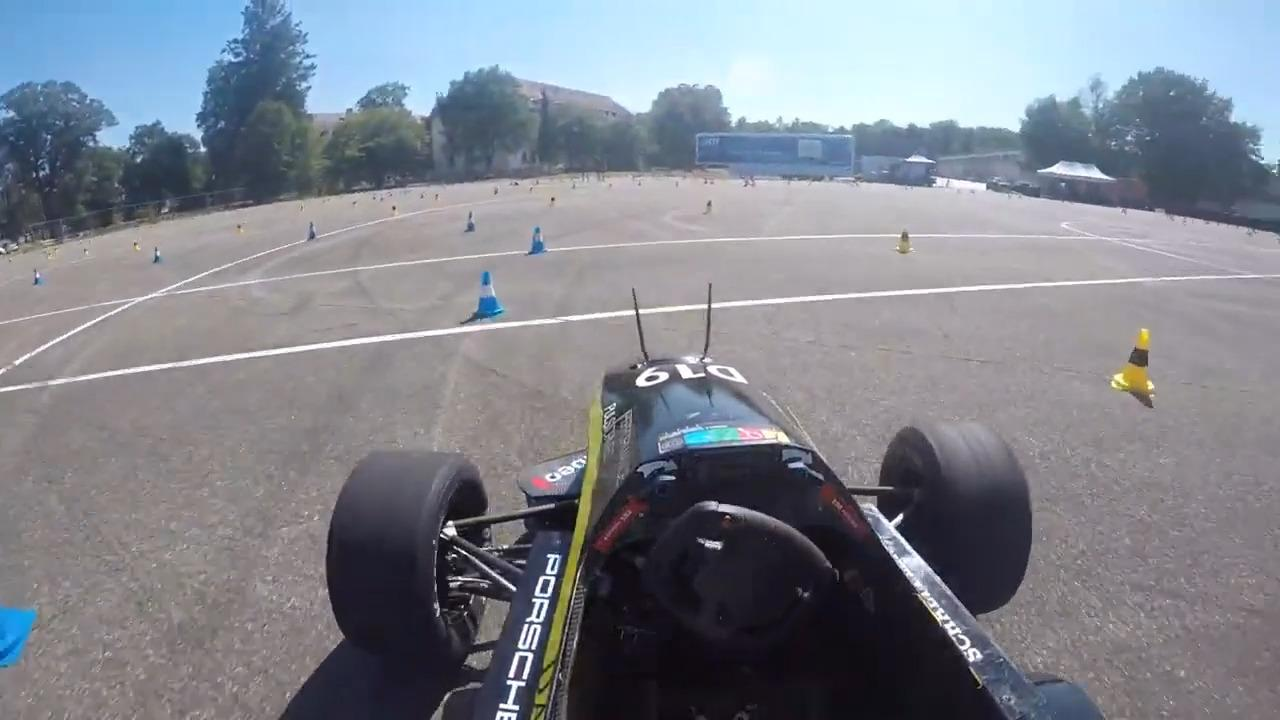blue_cone: (475, 268, 502, 317), (529, 224, 546, 254), (148, 244, 162, 264), (304, 221, 318, 240), (464, 210, 476, 232), (31, 267, 44, 287)
yellow_cone: (1107, 318, 1155, 396), (894, 226, 914, 255), (705, 197, 714, 213), (390, 204, 399, 219), (130, 240, 140, 253), (236, 222, 245, 235), (549, 194, 557, 207)
